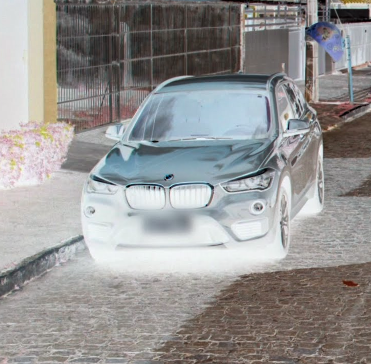car: (79, 70, 327, 264)
